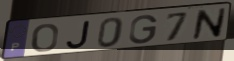0: (96, 16, 126, 49)
7: (165, 10, 191, 42)
G: (128, 14, 160, 45)
J: (64, 19, 92, 50)
N: (190, 6, 228, 41)
O: (31, 22, 60, 53)
